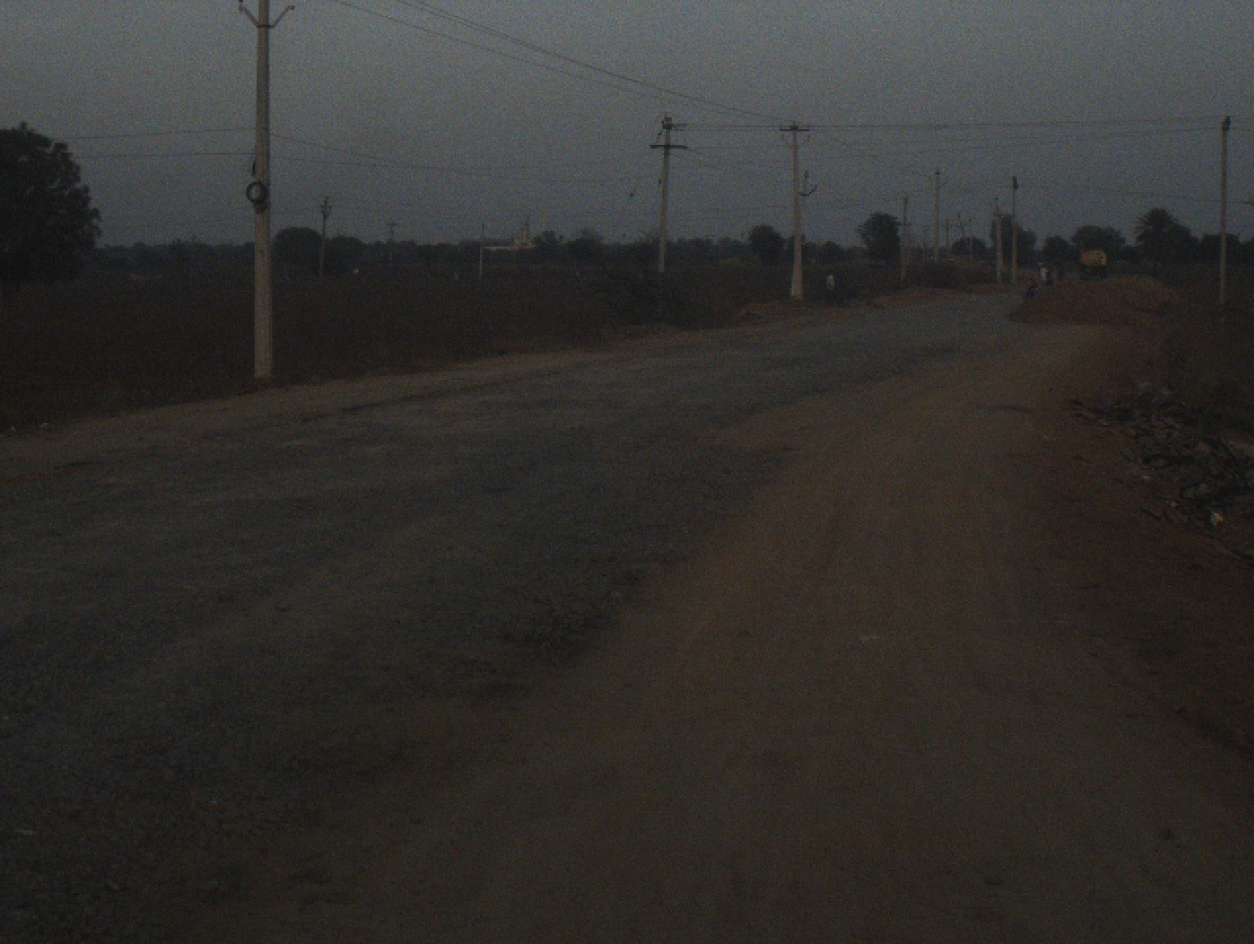person: (823, 268, 839, 290), (1037, 261, 1042, 282)
truck: (1075, 245, 1113, 286)
